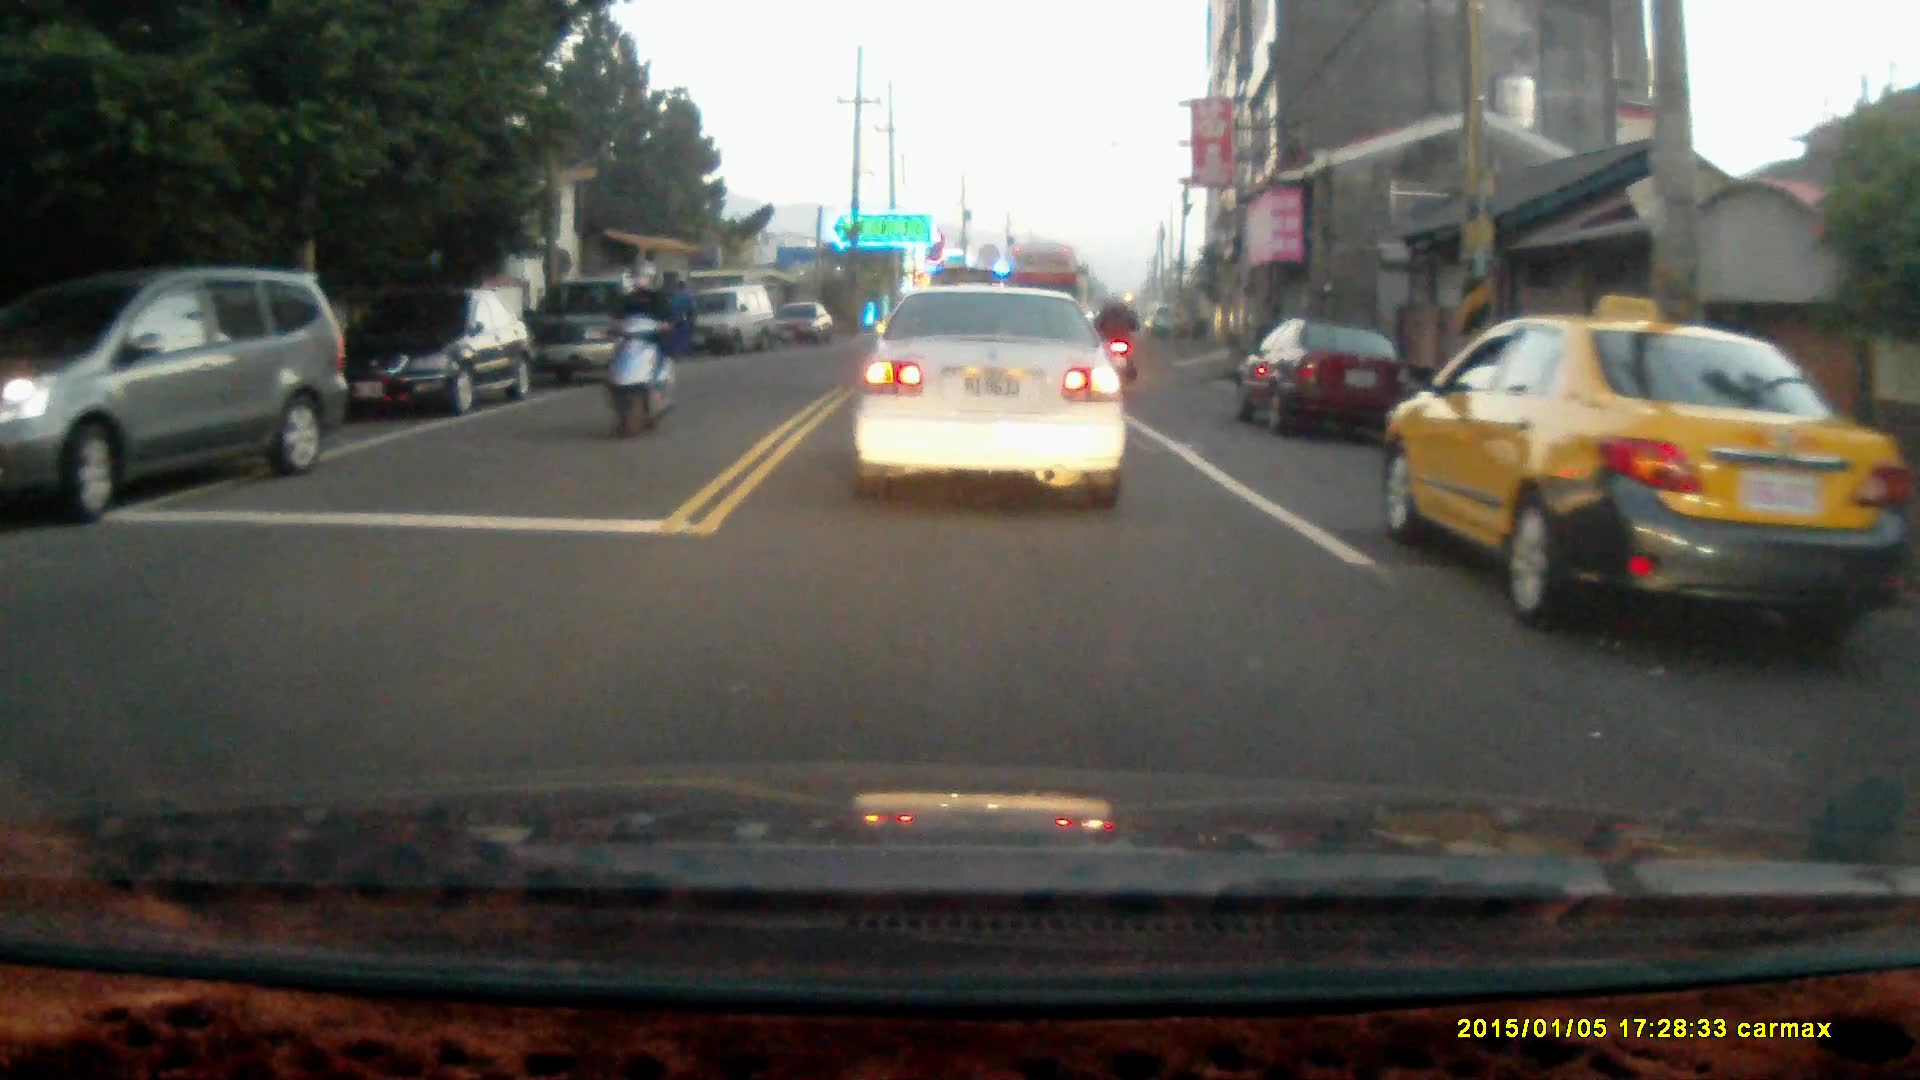pedestrian: (670, 276, 696, 358)
rider: (593, 253, 673, 440), (1084, 286, 1138, 399)
vehicle: (1375, 319, 1908, 644), (1, 265, 347, 527), (852, 286, 1126, 512), (329, 287, 537, 417), (1236, 319, 1419, 439), (519, 270, 673, 390), (674, 285, 775, 358), (760, 303, 837, 354)
